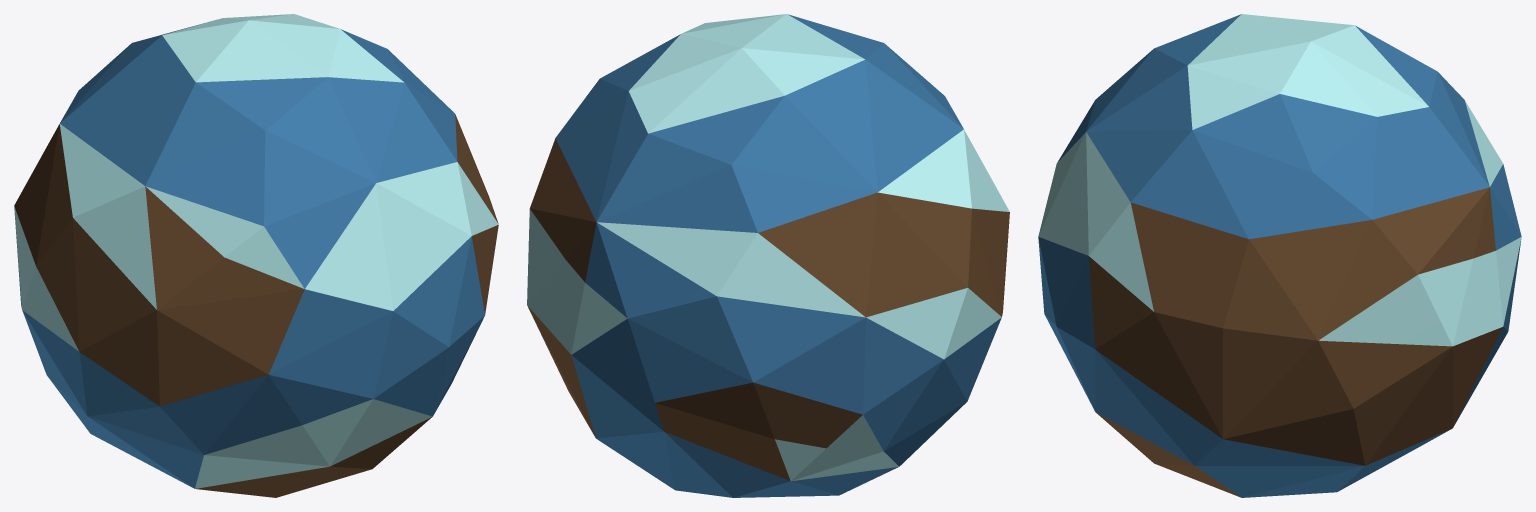
The model's file is planet-sea.glb.
The picture shows the model from 3 angles, left to right: view 1: azimuth 30°, elevation 25°; view 2: azimuth 150°, elevation 25°; view 3: azimuth 270°, elevation 25°; orthographic projection.
Parts seen in each view (by area): view 1: planet-sea; view 2: planet-sea; view 3: planet-sea.
Boxes of the visible parts, x1=… form: planet-sea: x1=14, y1=14, x2=498, y2=497; planet-sea: x1=527, y1=14, x2=1009, y2=497; planet-sea: x1=1038, y1=14, x2=1521, y2=497.
Bounding box in the file's own units: 9.99 × 9.99 × 10.
Materials: 1 (1 with a texture image).
